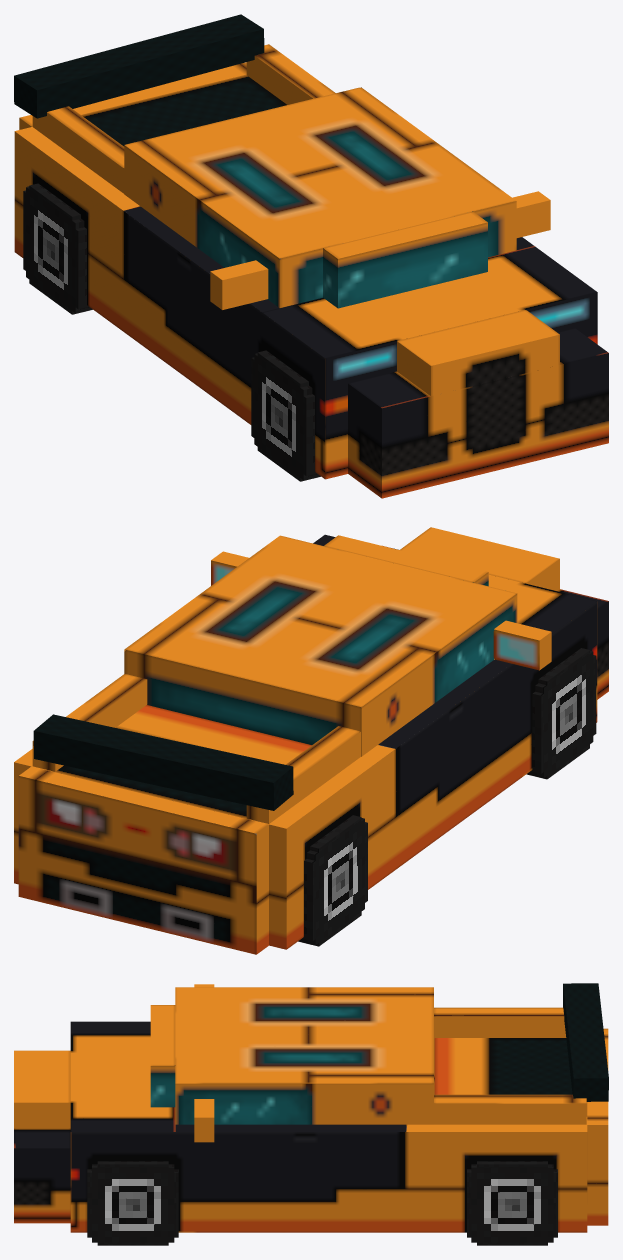
File: BGN_BUGATTI (BCW).fbx
3 views of the same model, one above another, from view 1: azimuth 30°, elevation 25°; view 2: azimuth 150°, elevation 25°; view 3: azimuth 270°, elevation 25° (orthographic). The views are drawn at different scales.
Visible parts, largest first — view 1: BODY, WING, R_R__7_, R_R__9_; view 2: BODY, WING, R_R__7_, R_R__9_; view 3: BODY, R_R__6_, R_R__8_, WING.
Boxes of the visible parts, box(x1,y1,x2,y2) form: BODY: box(14, 44, 608, 498); WING: box(14, 14, 264, 118); R_R__7_: box(251, 350, 320, 481); R_R__9_: box(23, 183, 92, 314); BODY: box(14, 527, 608, 954); WING: box(33, 714, 293, 810); R_R__7_: box(526, 648, 596, 779); R_R__9_: box(298, 815, 367, 946); BODY: box(14, 984, 608, 1232); R_R__6_: box(87, 1161, 178, 1245); R_R__8_: box(467, 1161, 557, 1245); WING: box(563, 983, 608, 1101).
Bounding box in the file's own units: 171 × 91.05 × 323.
Materials: 2 (2 with a texture image).
